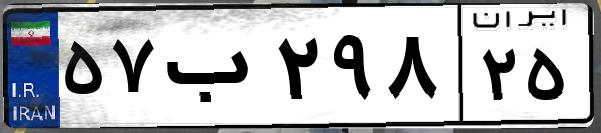2: (270, 28, 330, 110), (475, 38, 525, 113)
5: (57, 26, 110, 100), (525, 38, 570, 115)
7: (110, 28, 158, 98)
8: (385, 28, 445, 110)
9: (330, 28, 385, 110)
ب: (158, 20, 270, 120)
